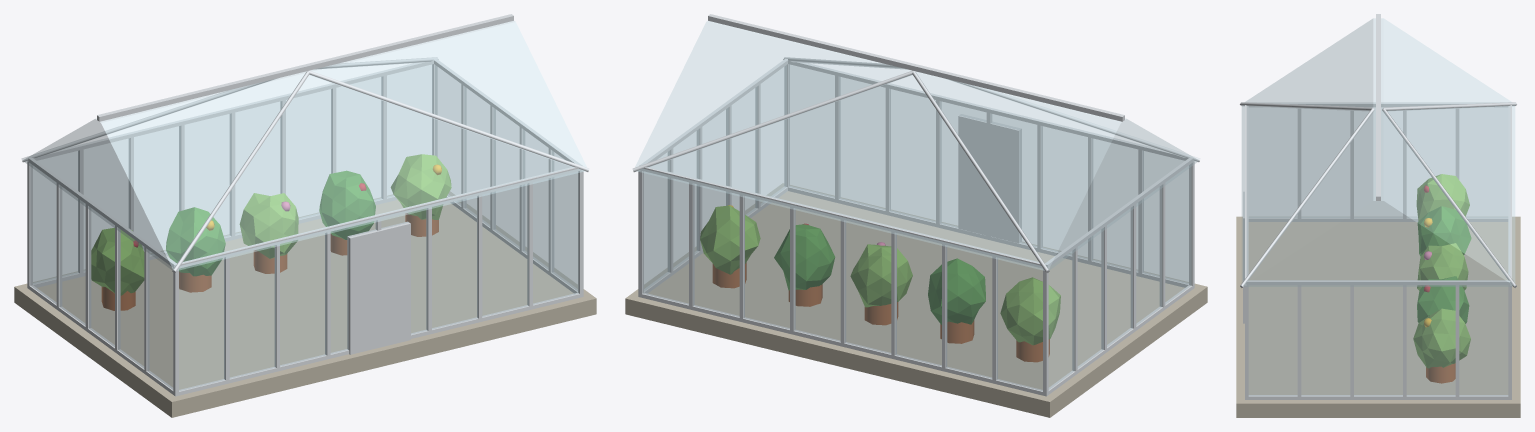
Rendered from greenhouse.glb.
3 renders of one model, left to right at view 1: azimuth 30°, elevation 25°; view 2: azimuth 150°, elevation 25°; view 3: azimuth 270°, elevation 25°, orthographic. The views are drawn at different scales.
Parts seen in each view (by area): view 1: root; view 2: root; view 3: root.
Boxes of the visible parts, bbox=[...] form: root: bbox=[14, 14, 596, 417]; root: bbox=[625, 14, 1207, 417]; root: bbox=[1236, 14, 1520, 417].
Size of the model in its own units: 8.4 by 4.59 by 5.4.
